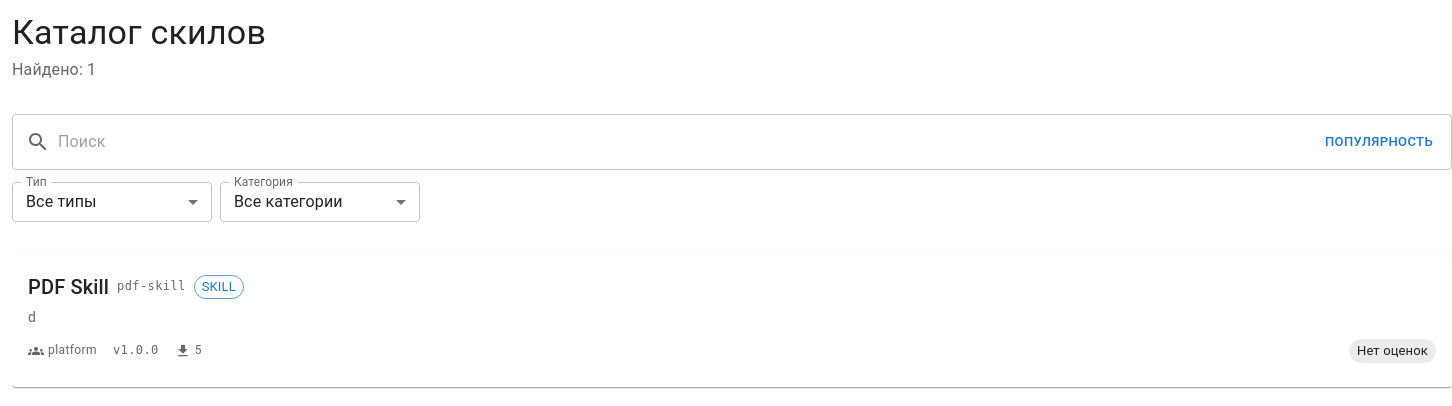
Test: type select keeps selected type when facets lack it
expect the heading "PDF Skill" is shown: met, box [28, 271, 109, 303]
Click the dropdown labelled "тип". click: (61, 202)
box: [26, 192, 97, 212]
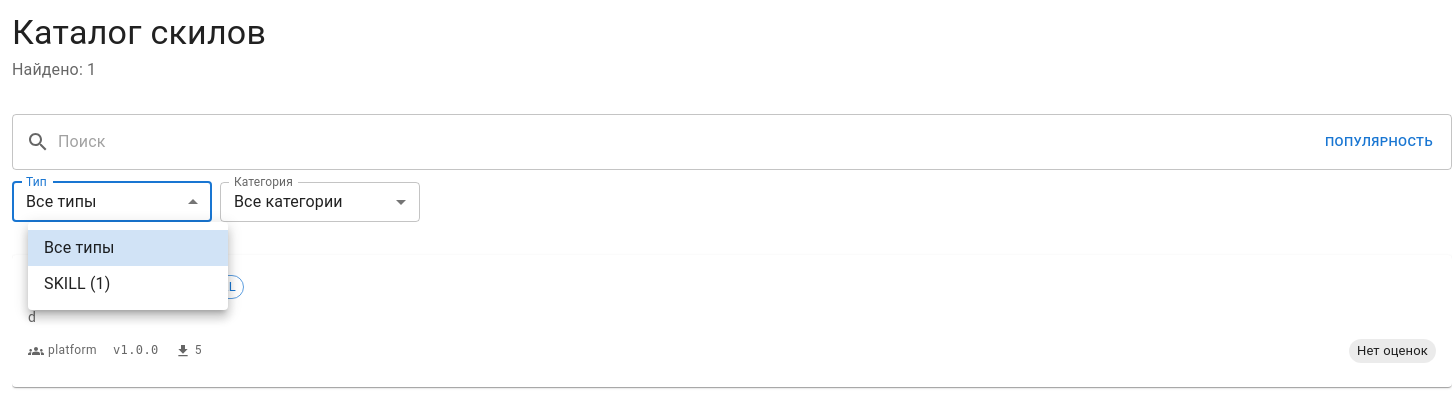
Click the option "SKILL (1)". click: (77, 284)
box: [44, 274, 110, 293]
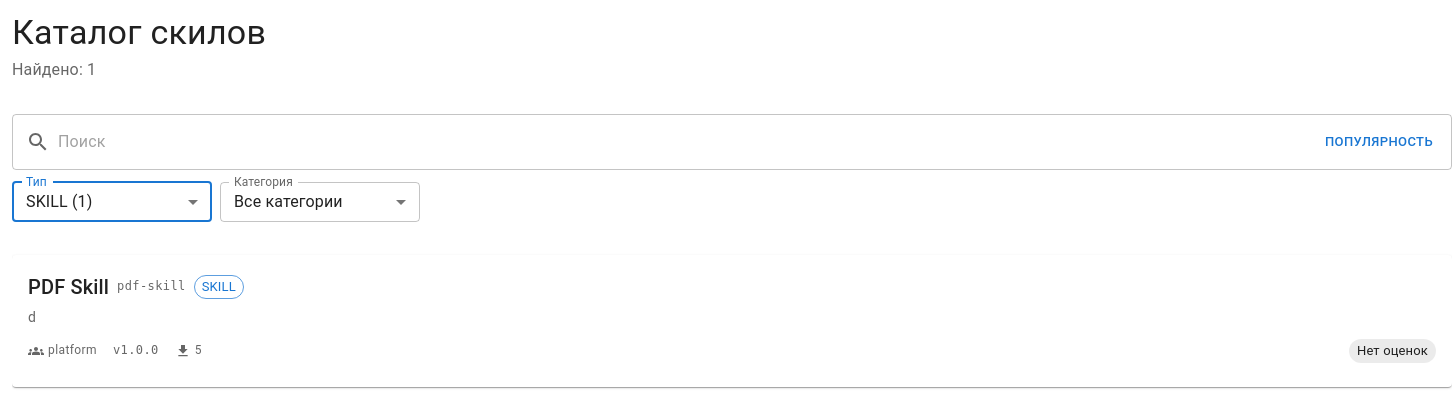
expect the heading "PDF Skill" is shown: met, box [28, 271, 109, 303]
Click the dropdown named "Категория". click: (288, 202)
box: [234, 192, 343, 212]
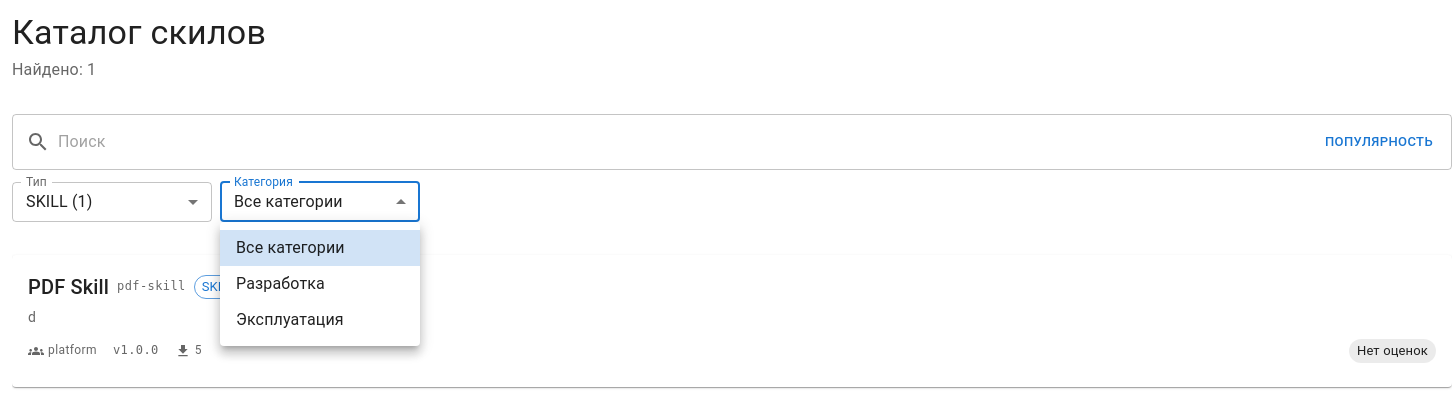
Click the option "Разработка". click: (280, 284)
box: [236, 274, 325, 293]
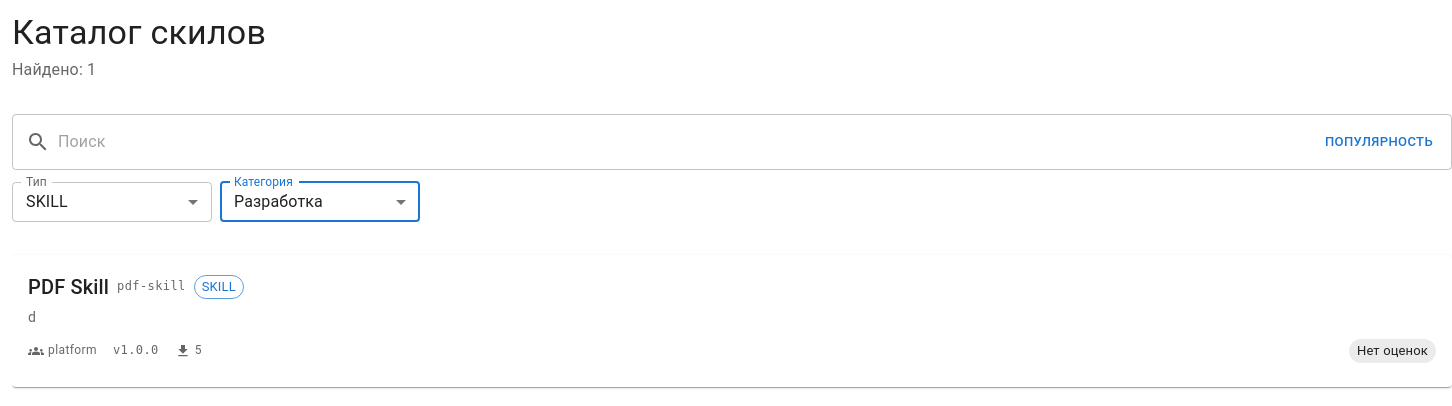
Click the dropdown named "Тип". click: (47, 202)
box: [26, 192, 68, 212]
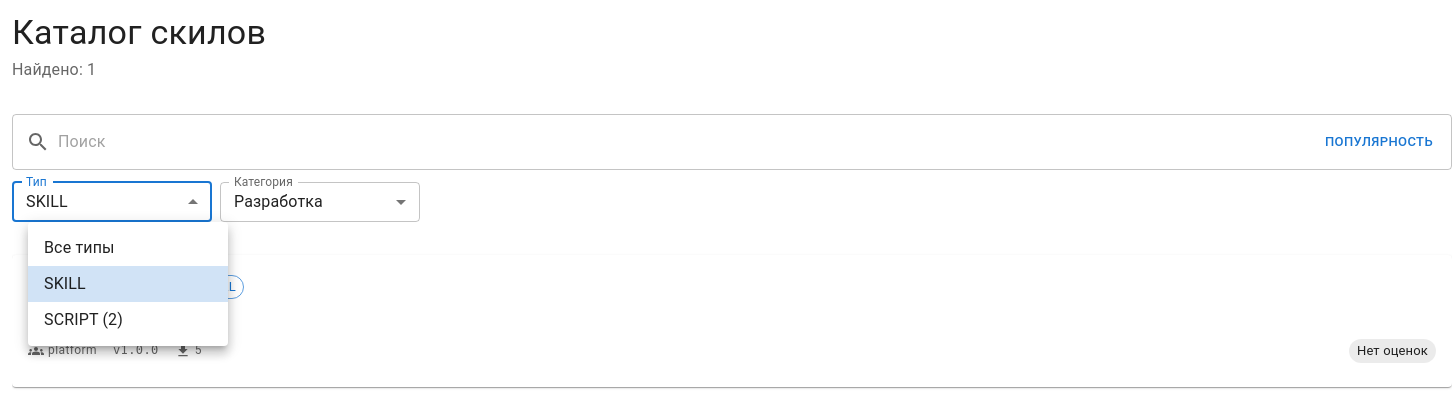
expect the option "SKILL" is shown: met, box [28, 266, 228, 302]
